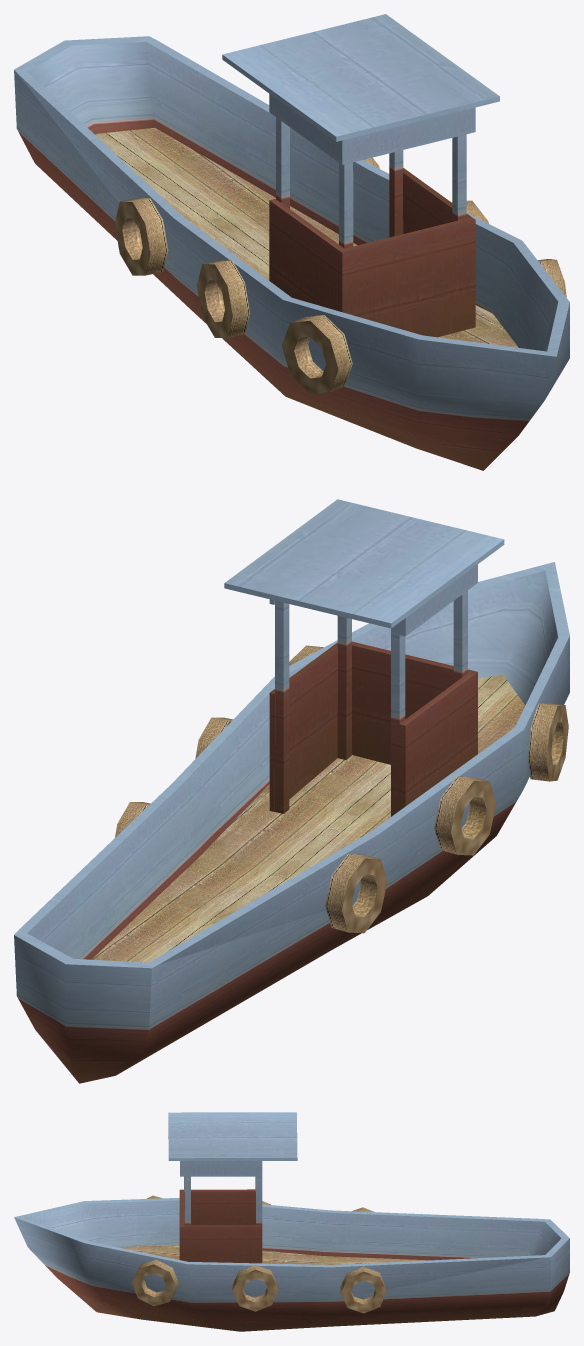
File: Boat.FBX
3 views of the same model, one above another, from view 1: azimuth 30°, elevation 25°; view 2: azimuth 150°, elevation 25°; view 3: azimuth 270°, elevation 25° (orthographic). The views are drawn at different scales.
Parts seen in each view (by area): view 1: Boat; view 2: Boat; view 3: Boat.
Part boxes in pixels (left/top/right/bottom): Boat: left=14, top=14, right=569, bottom=470; Boat: left=14, top=499, right=569, bottom=1083; Boat: left=14, top=1112, right=569, bottom=1331.
Size of the model in its own units: 4.96 by 5.54 by 15.84.
